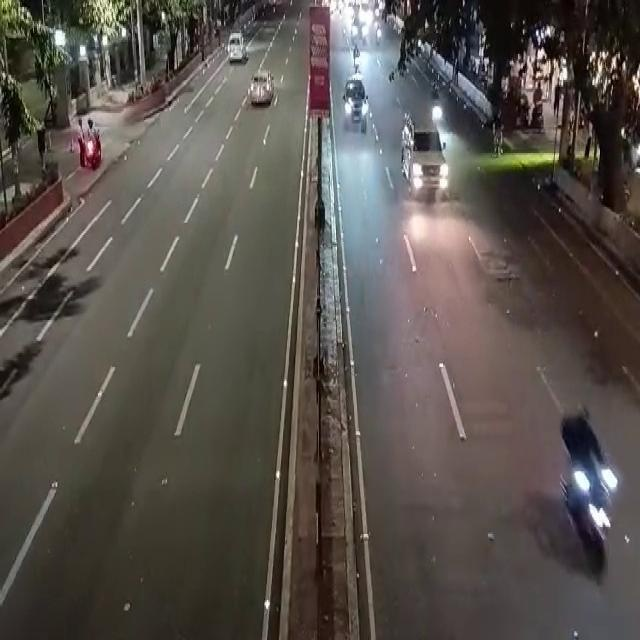car: (403, 116, 450, 207), (341, 78, 368, 138), (248, 62, 276, 106), (224, 32, 250, 71)
motorcycle: (557, 400, 611, 588), (84, 113, 98, 172)
